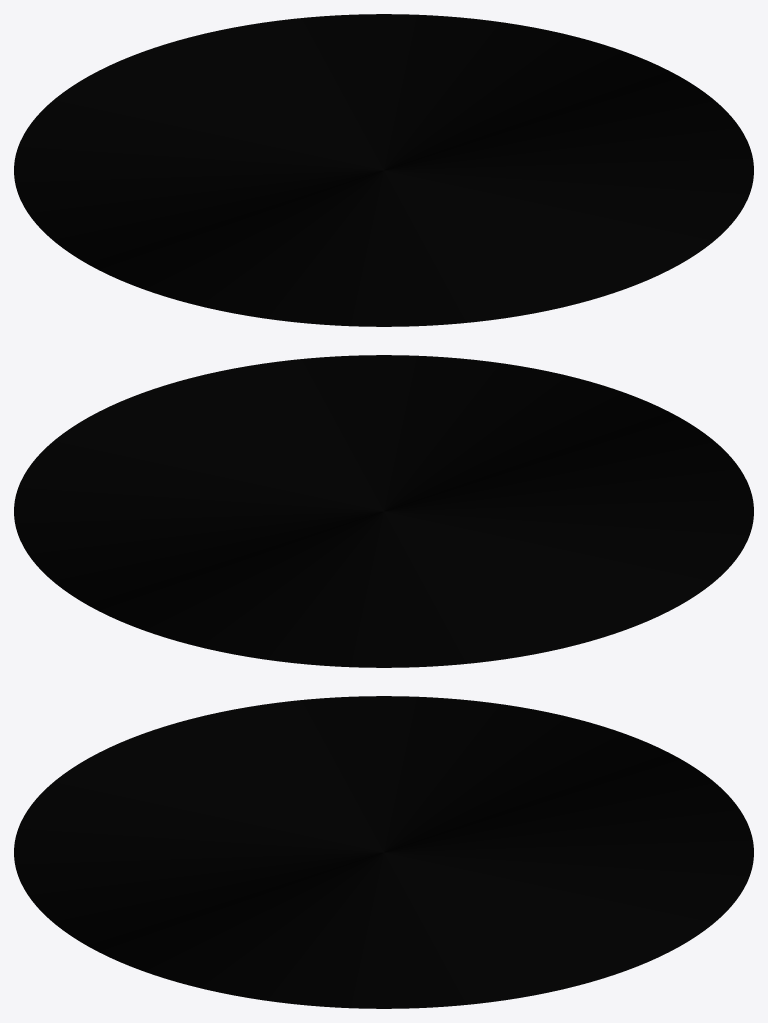
Rendered from UnitDragIndicatorRenderer.glb.
The picture shows the model from 3 angles, top to bottom: view 1: azimuth 30°, elevation 25°; view 2: azimuth 150°, elevation 25°; view 3: azimuth 270°, elevation 25°; orthographic projection.
Visible parts, largest first — view 1: PosCircle; view 2: PosCircle; view 3: PosCircle.
Part boxes in pixels (bbox=[...]): PosCircle: bbox=[14, 14, 753, 326]; PosCircle: bbox=[14, 355, 753, 667]; PosCircle: bbox=[14, 696, 753, 1008].
Size of the model in its own units: 2 by 4.44e-16 by 2.
1 material, 1 textured.
